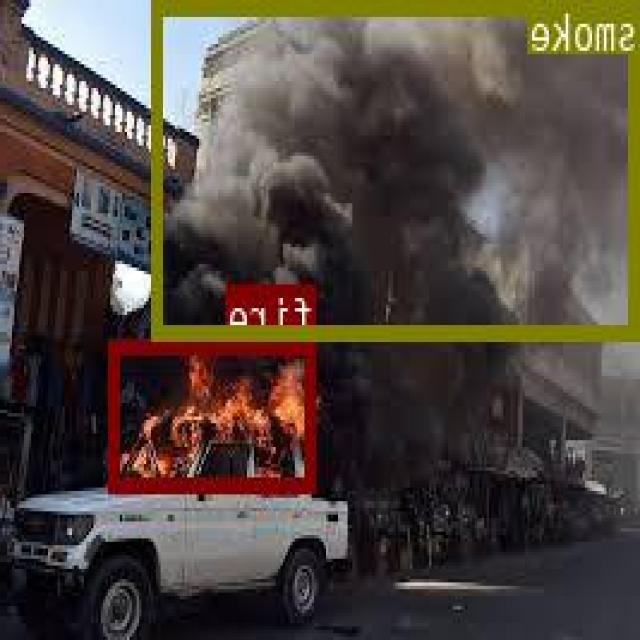fire: (112, 338, 318, 488)
smoke: (153, 0, 640, 335)
